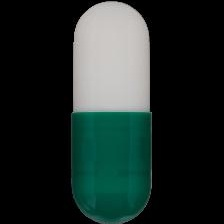51991-747: (0, 0, 224, 224)
